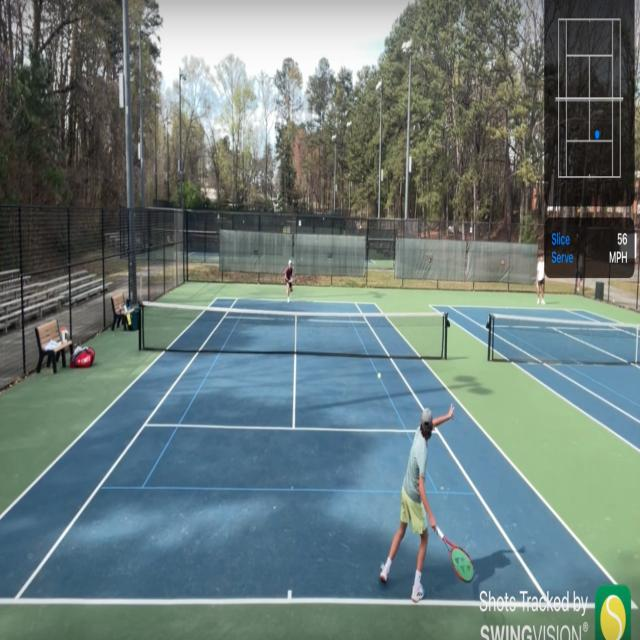ball: (377, 372, 381, 380)
